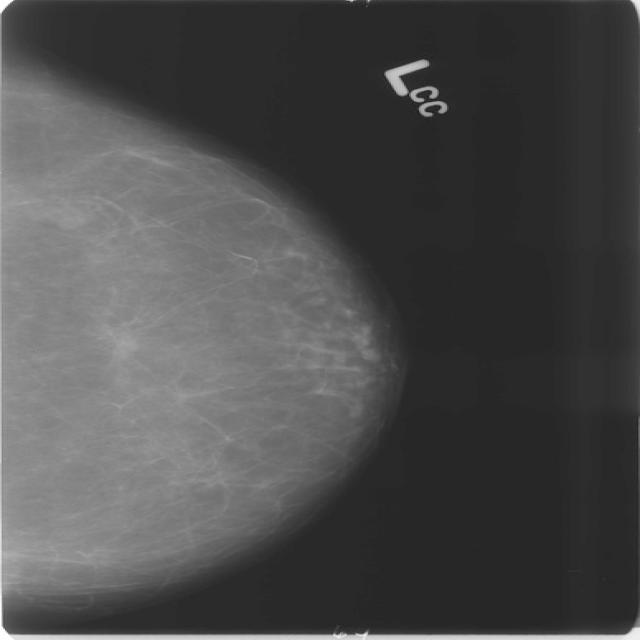tumour: (105, 330, 137, 362)
